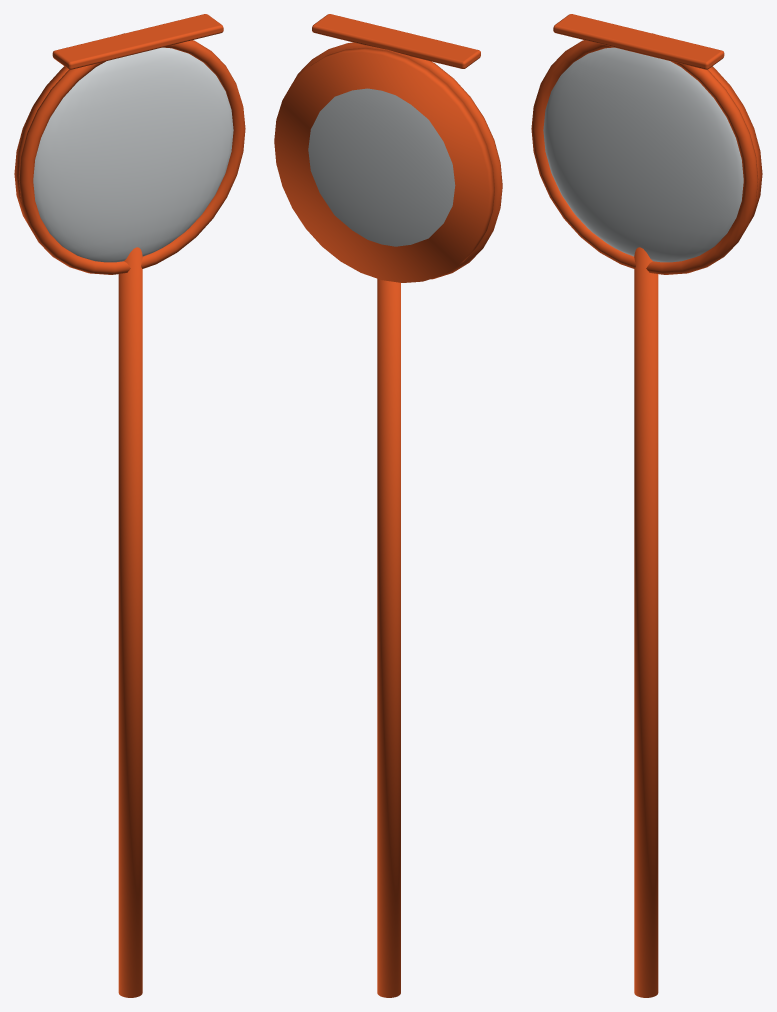
Rendered from convex_mirror.glb.
The picture shows the model from 3 angles, left to right: view 1: azimuth 30°, elevation 25°; view 2: azimuth 150°, elevation 25°; view 3: azimuth 330°, elevation 25°; orthographic projection.
Visible parts, largest first — view 1: convex_mirror; view 2: convex_mirror; view 3: convex_mirror.
Part boxes in pixels (bbox=[...]): convex_mirror: bbox=[14, 14, 245, 997]; convex_mirror: bbox=[274, 14, 502, 997]; convex_mirror: bbox=[531, 14, 762, 997].
Size of the model in its own units: 0.87 by 3.55 by 0.182.
